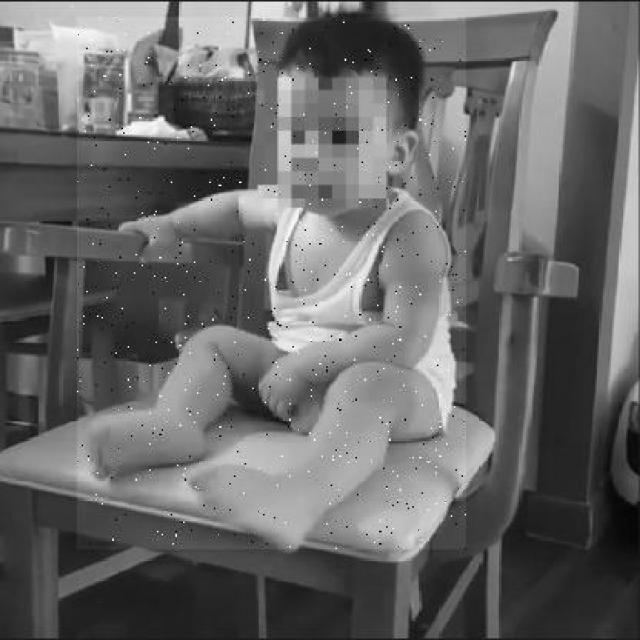child: (77, 17, 466, 549)
